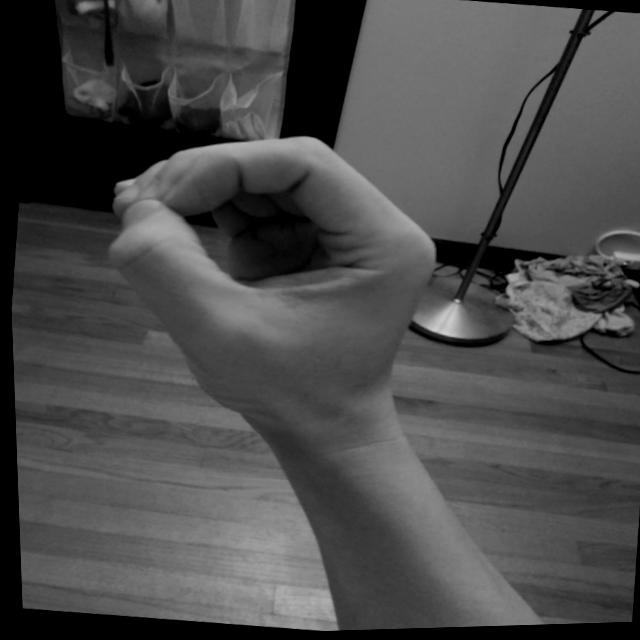O: (74, 108, 461, 450)
